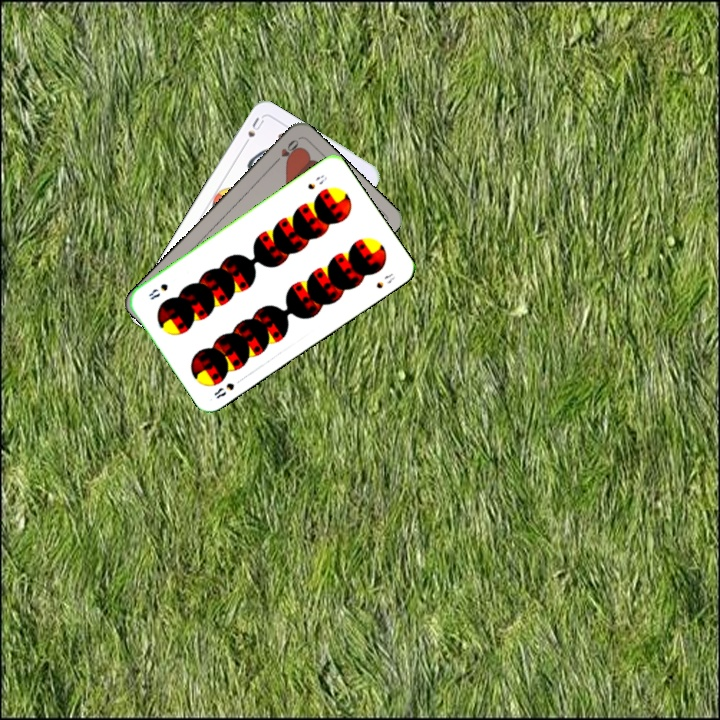HO: (269, 135, 301, 167)
S8: (210, 379, 237, 401), (303, 171, 330, 192)
SU: (239, 113, 267, 150)
